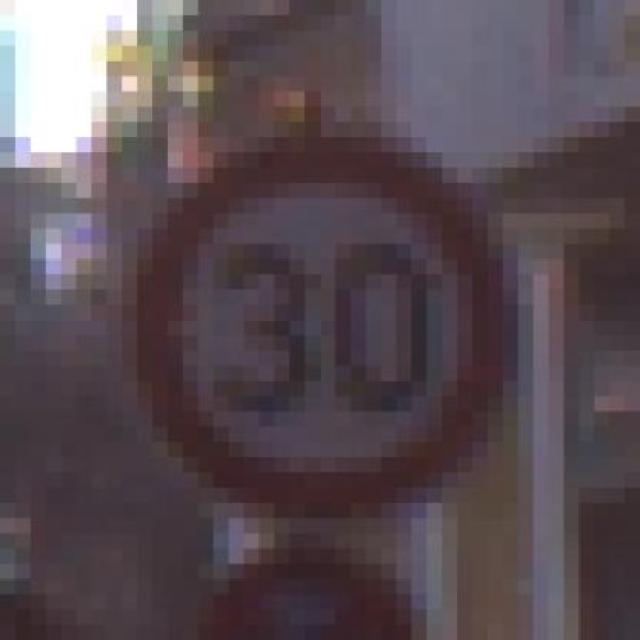Speed Limit 30 KMPh: (91, 76, 548, 533)
